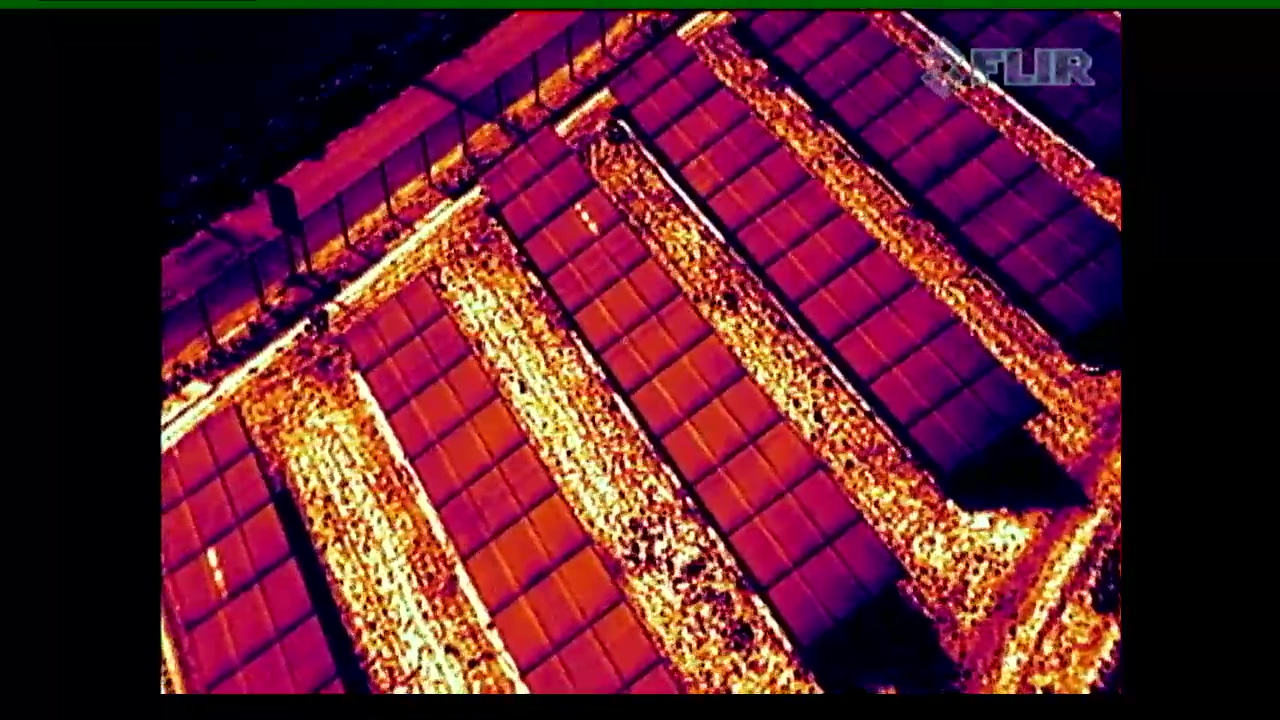hotspot: (164, 504, 296, 639), (518, 187, 628, 269)
